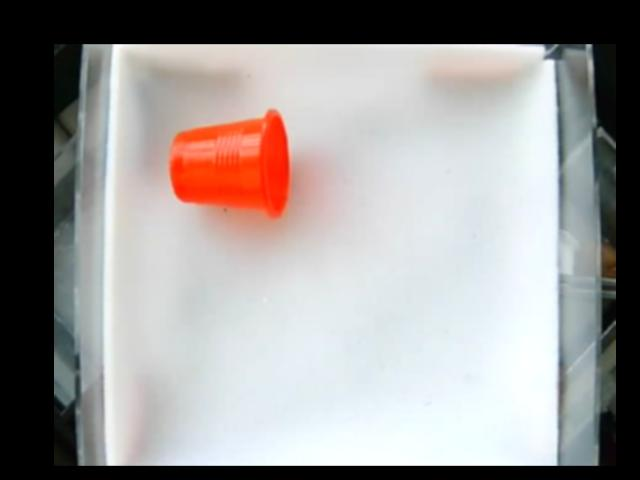Cup: (169, 108, 292, 217)
